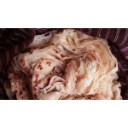parota: (17, 30, 118, 98)
